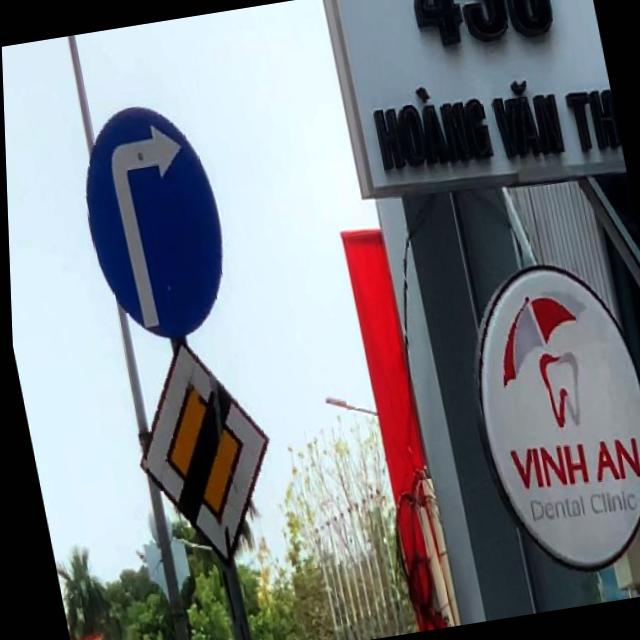Cac xe chi duoc re phai: (66, 97, 240, 349)
